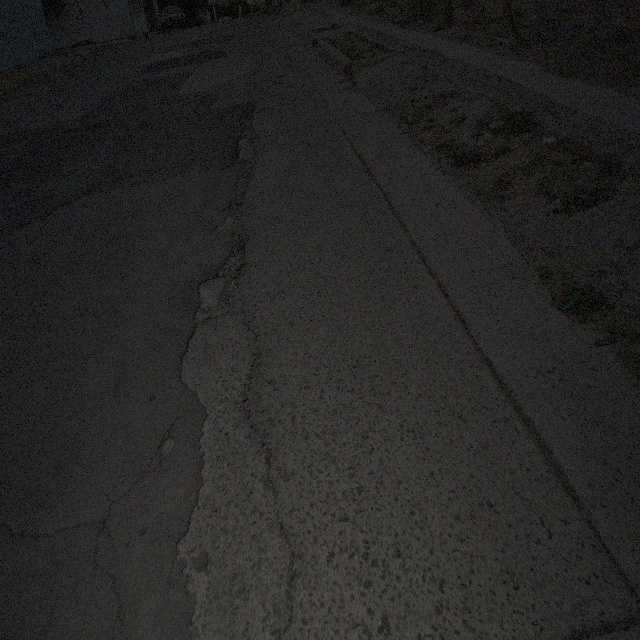pothole: (219, 175, 251, 279), (234, 122, 254, 164), (158, 429, 175, 459)
